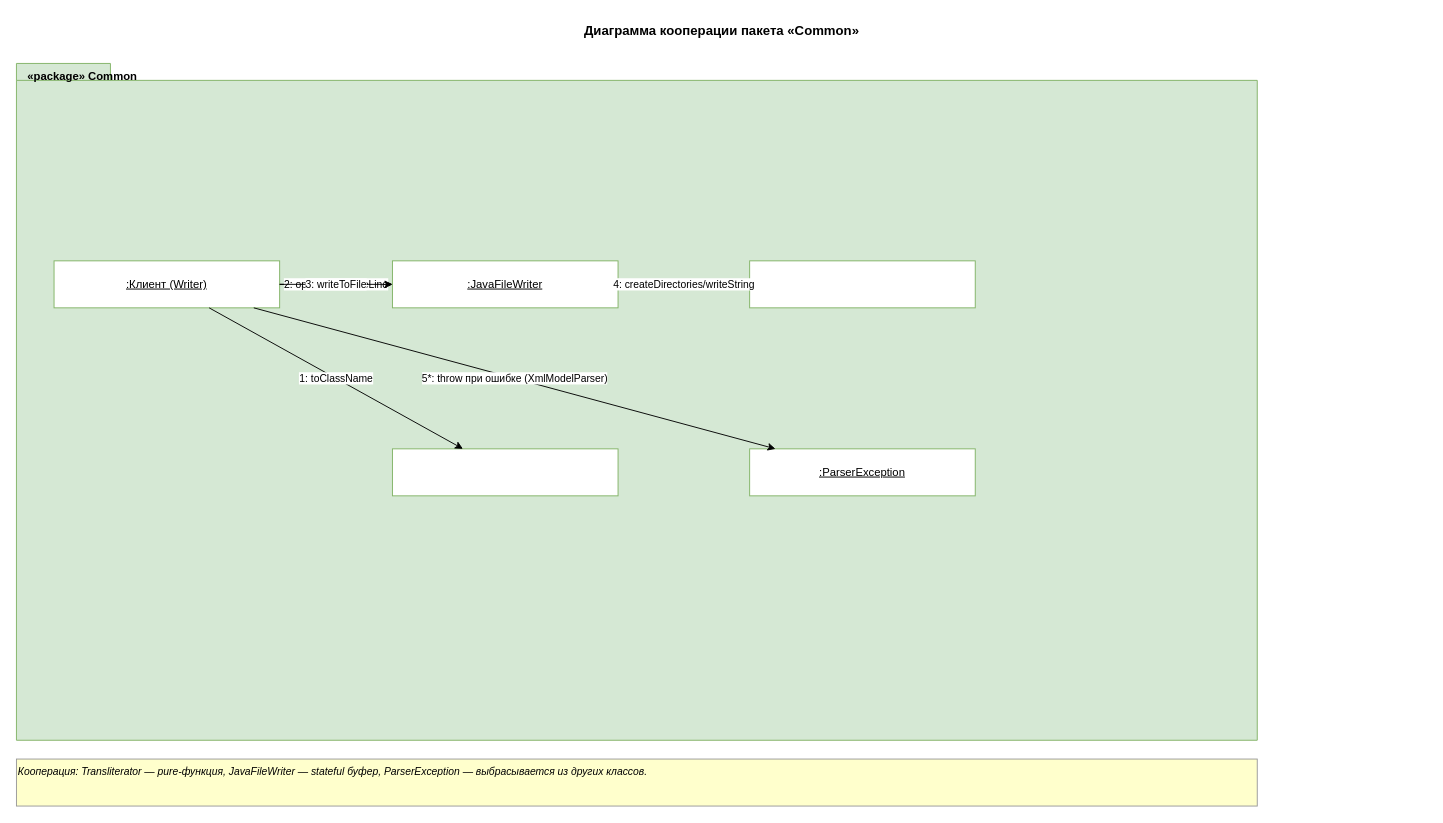
Image size: 1443x823. Some labels were removed from this diagram. The shapes that lost their labels are listed below. From the top down, each one's centre as x and y in pixels, then its label:
At pixel 862 284: ":Files (NIO)".
At pixel 505 472: ":Transliterator".
